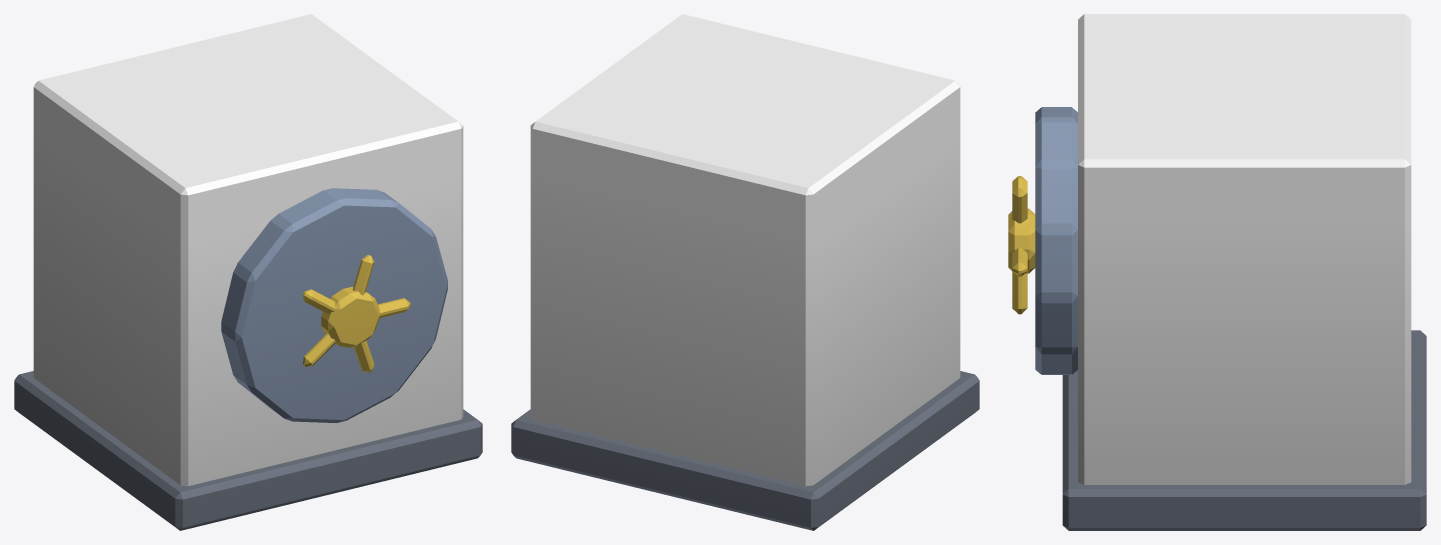
The model's file is autoclave.glb.
The picture shows the model from 3 angles, left to right: view 1: azimuth 30°, elevation 25°; view 2: azimuth 150°, elevation 25°; view 3: azimuth 270°, elevation 25°; orthographic projection. The views are drawn at different scales.
Visible parts, largest first — view 1: autoclave; view 2: autoclave; view 3: autoclave.
Boxes of the visible parts, <box> form: autoclave: <box>14,14,482,530</box>; autoclave: <box>511,14,979,530</box>; autoclave: <box>1008,14,1426,530</box>.
Bounding box in the file's own units: 0.5 × 0.52 × 0.54.
Materials: 1 (1 with a texture image).
